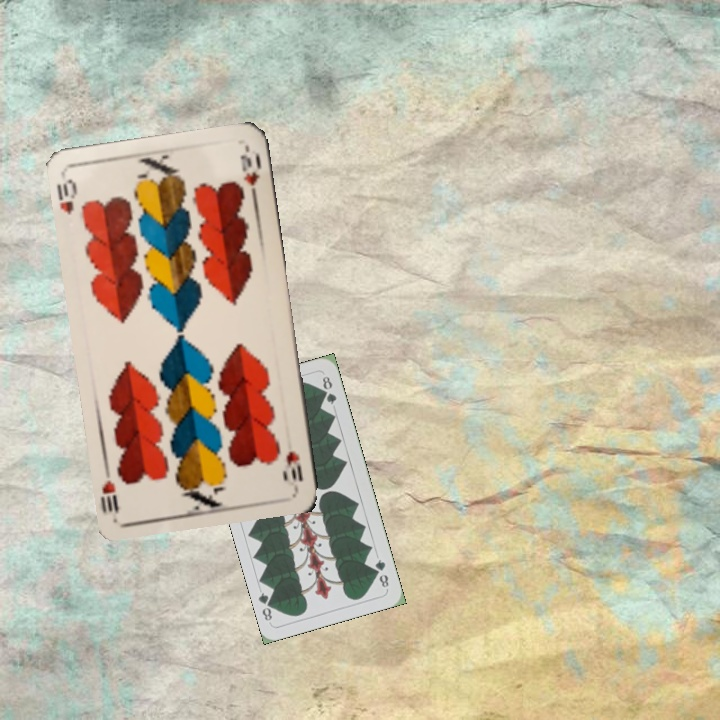G8: (371, 555, 391, 590)
H10: (53, 175, 80, 218), (282, 447, 305, 484)
